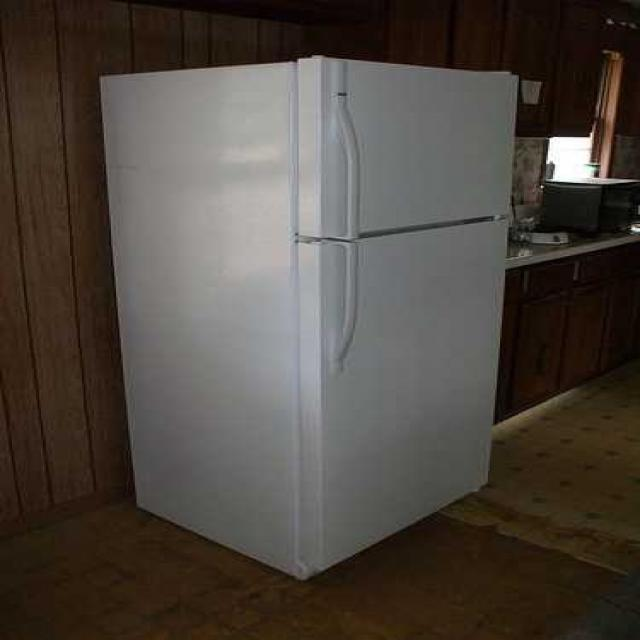refrigerator: (109, 44, 502, 580)
